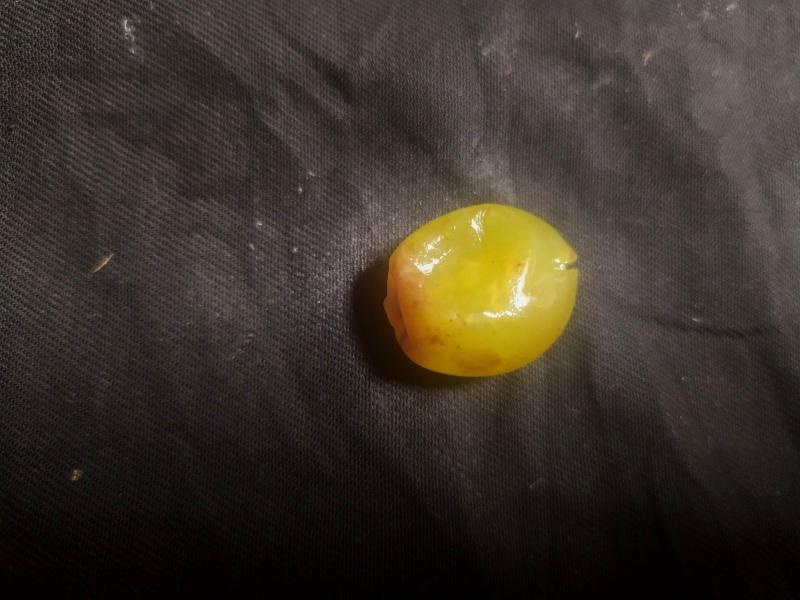Grape Overripe: (382, 199, 582, 381)
